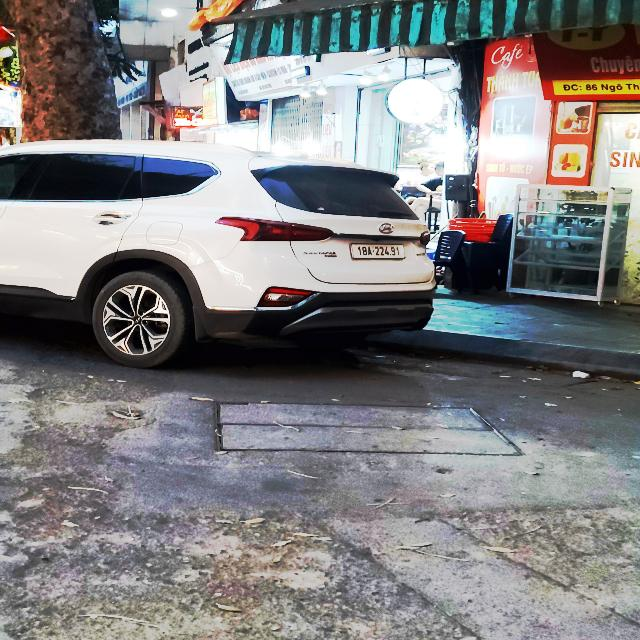license_plate: (349, 244, 408, 261)
